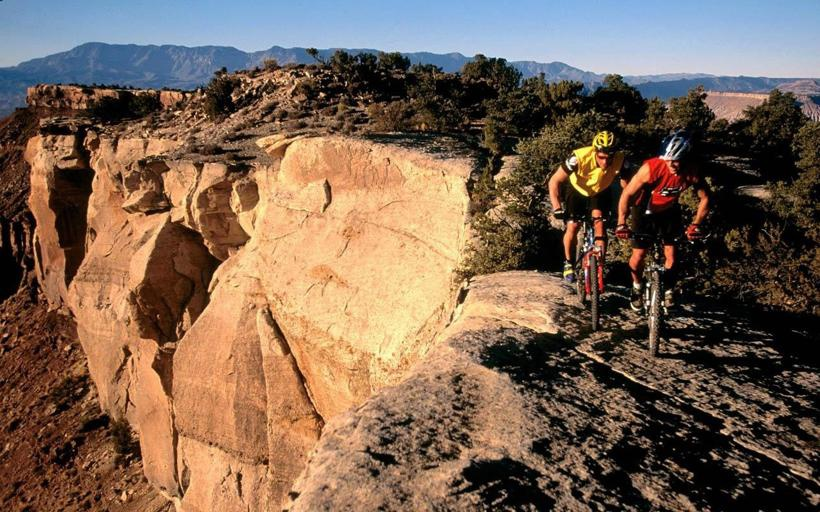non-vehicle: (614, 227, 706, 357), (553, 209, 619, 330)
